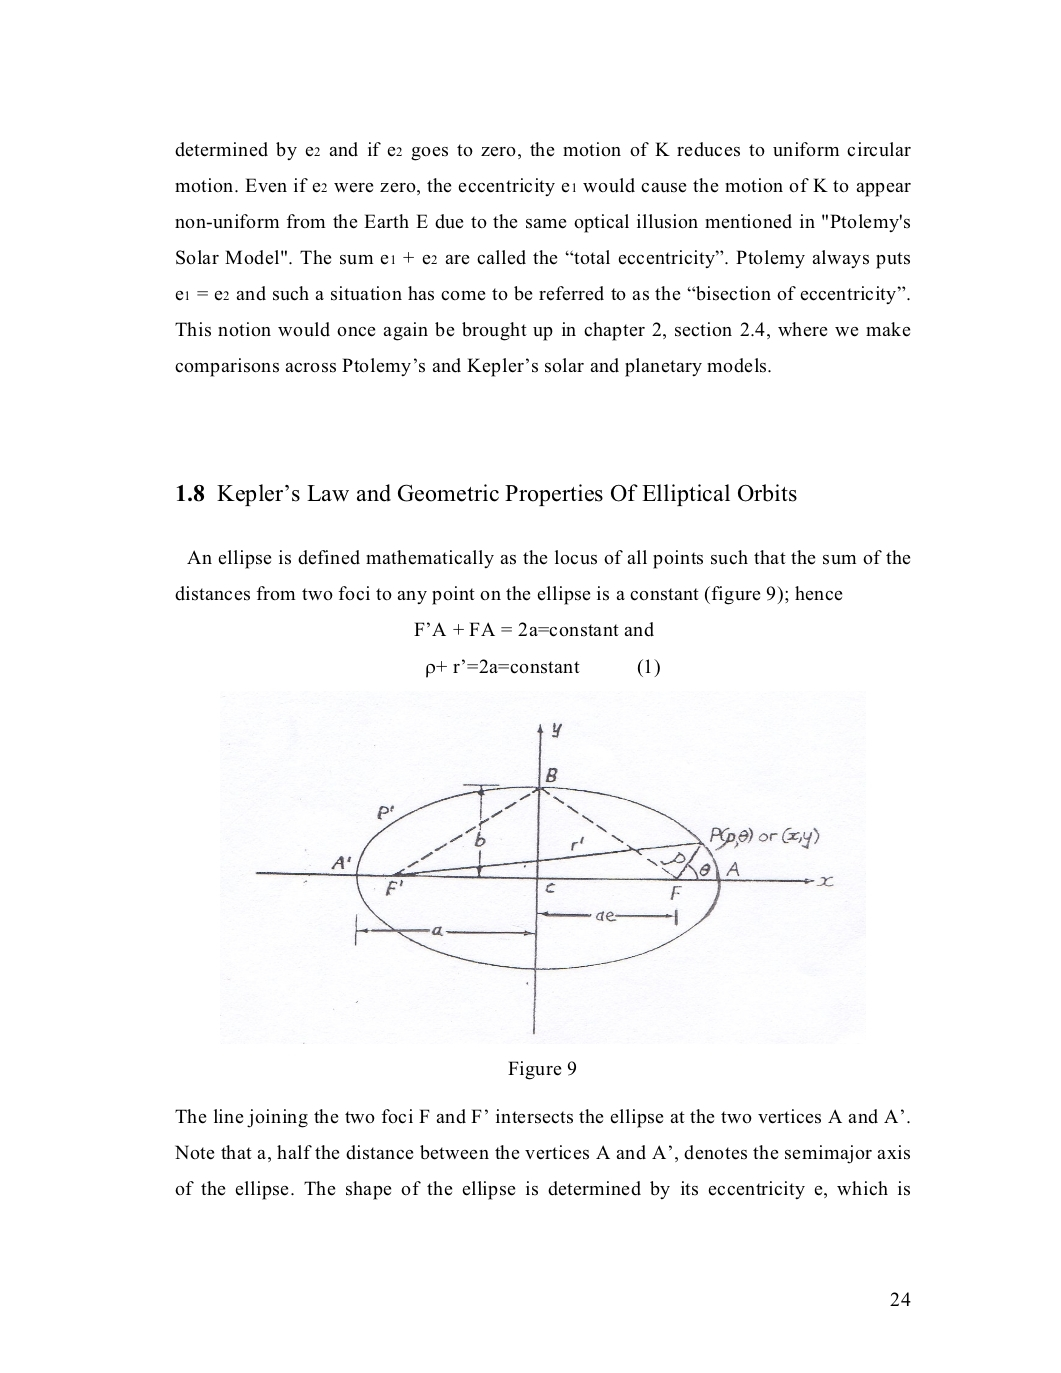figure: (220, 721, 846, 1035)
formula: (426, 658, 659, 678), (413, 621, 653, 637)
